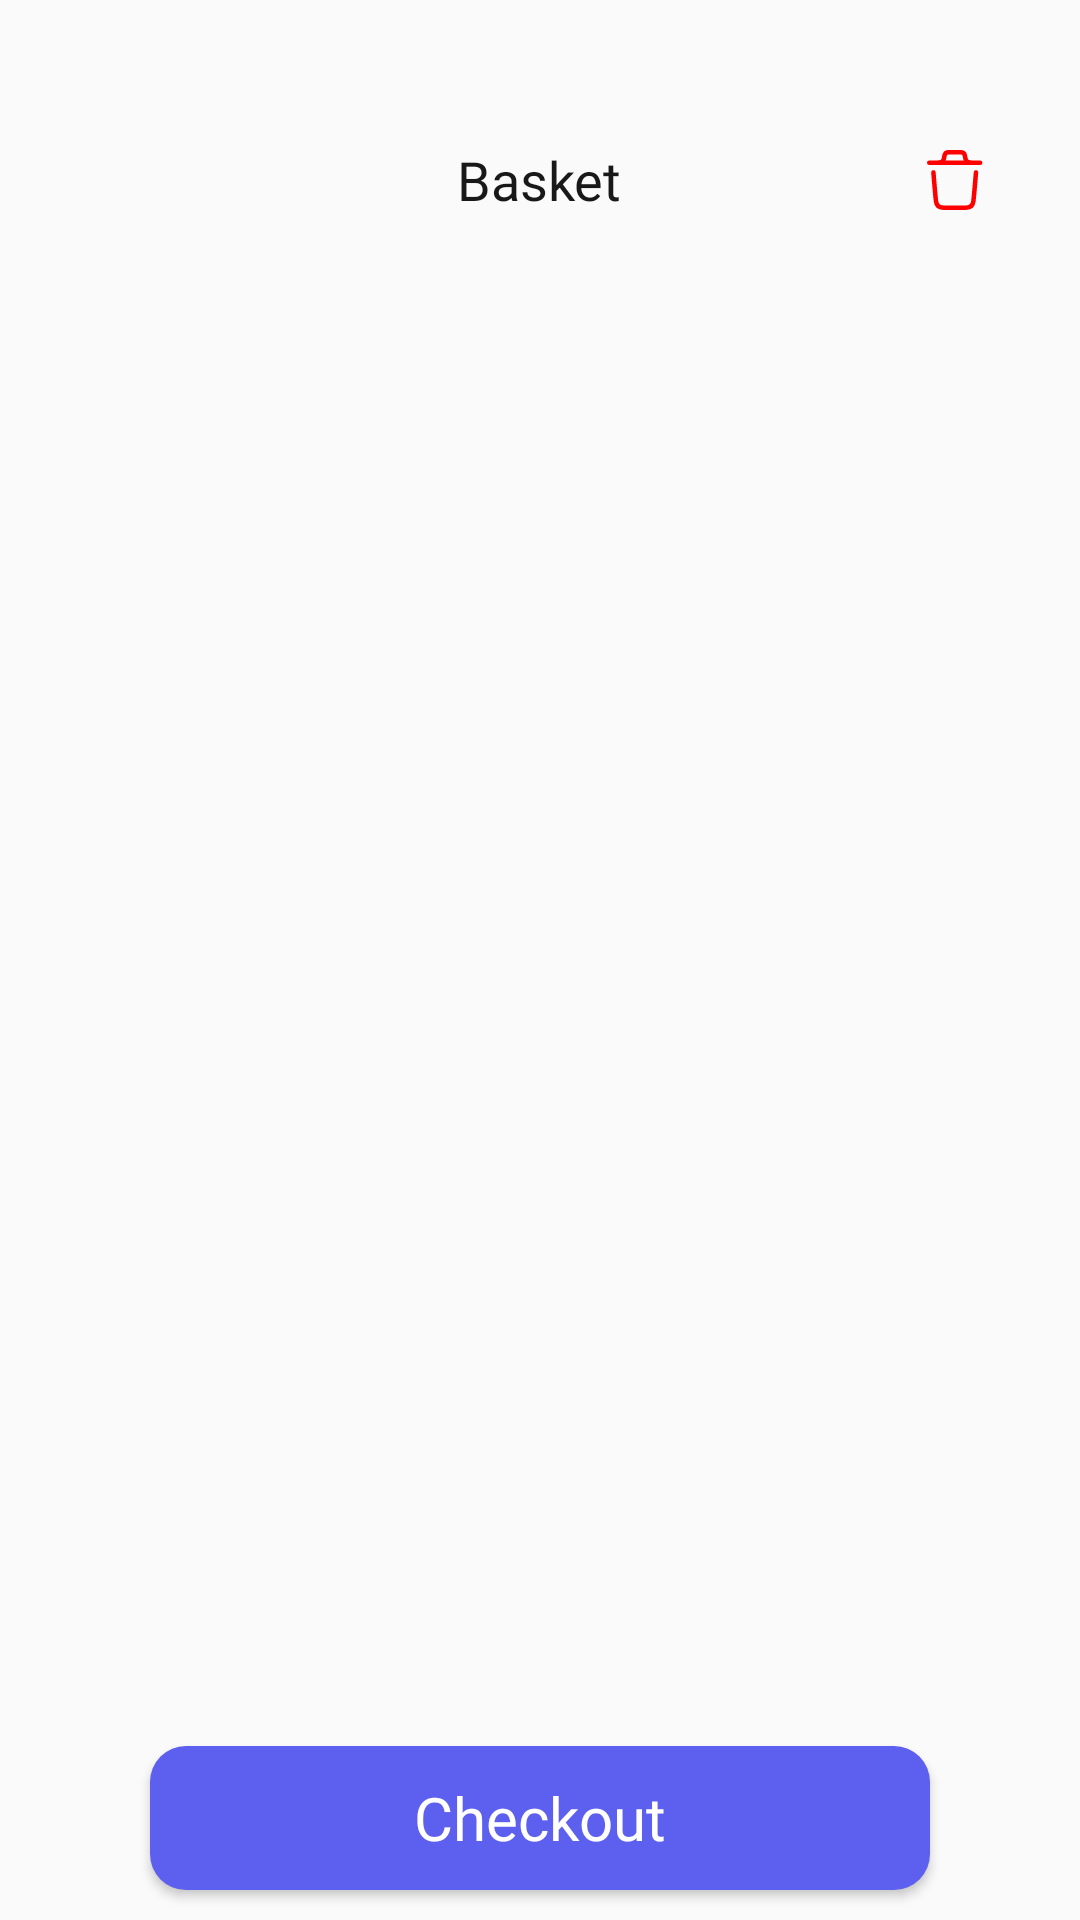

Icons on this 1080x1920 Android screen, each with its box as [x1, y1, x2, y2]:
delete: [927, 150, 983, 210]
